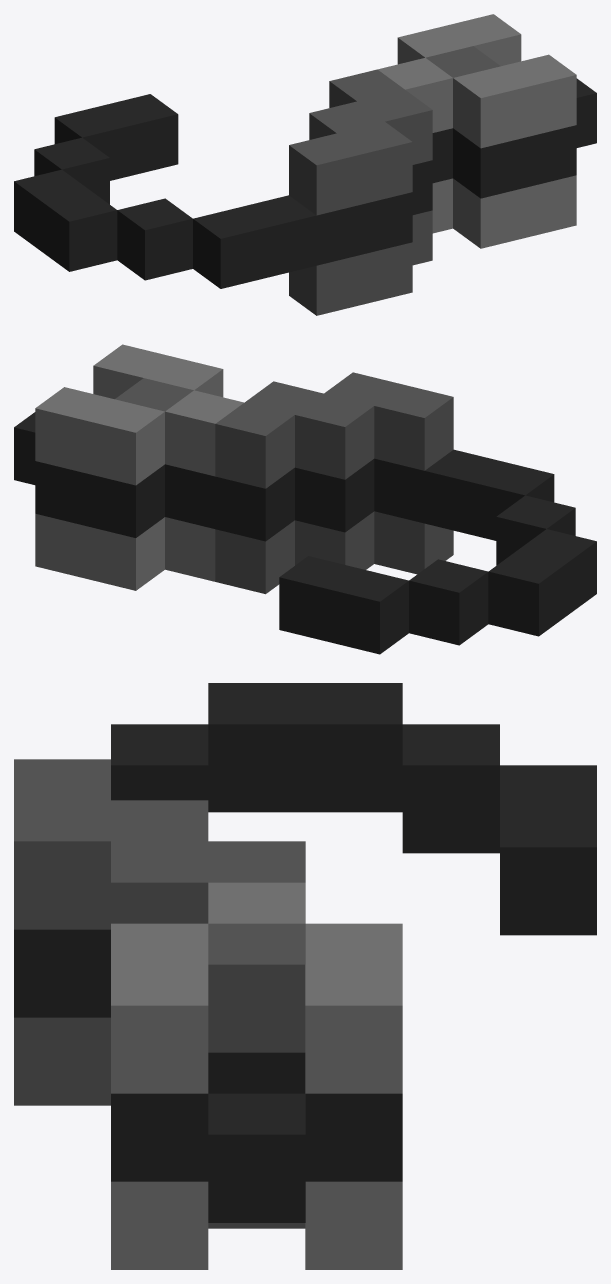
The model's file is Hook.obj.
The picture shows the model from 3 angles, top to bottom: view 1: azimuth 30°, elevation 25°; view 2: azimuth 150°, elevation 25°; view 3: azimuth 270°, elevation 25°; orthographic projection. The views are drawn at different scales.
Parts seen in each view (by area): view 1: Hook; view 2: Hook; view 3: Hook.
Part boxes in pixels (left/top/right/bottom): Hook: left=14, top=14, right=596, bottom=315; Hook: left=14, top=344, right=596, bottom=654; Hook: left=14, top=683, right=596, bottom=1269.
Size of the model in its own units: 11 by 3 by 6.
Materials: 1 (1 with a texture image).
